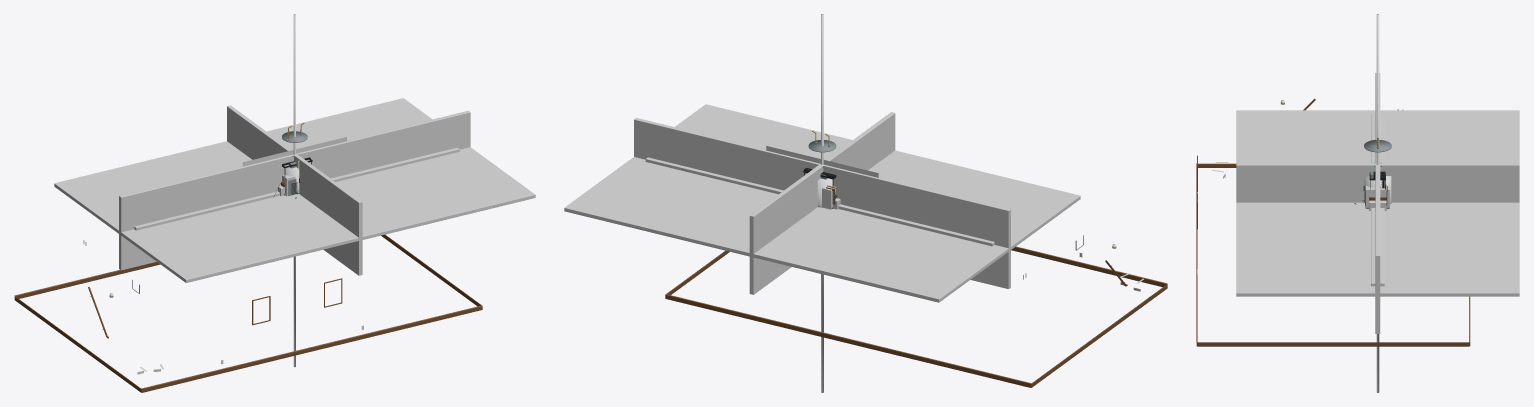
Rendered from den-craft.glb.
3 renders of one model, left to right at view 1: azimuth 30°, elevation 25°; view 2: azimuth 150°, elevation 25°; view 3: azimuth 270°, elevation 25°, orthographic. The views are drawn at different scales.
Visible parts, largest first — view 1: floor, den_12eecf06, den_2b9b7a50, room_warm walnut, den_97aaf383, room_end grain, den_e48f0107, rug; view 2: floor, den_12eecf06, den_2b9b7a50, room_warm walnut, den_97aaf383, room_end grain, den_e48f0107, rug; view 3: floor, den_2b9b7a50, room_warm walnut, den_12eecf06, den_97aaf383, den_e48f0107, room_end grain, furnaceBody.
Part boxes in pixels (x1,y1,x2,y2): floor: (54, 98, 535, 282); den_12eecf06: (119, 110, 470, 270); den_2b9b7a50: (227, 105, 362, 275); room_warm walnut: (14, 234, 482, 392); den_97aaf383: (134, 147, 459, 230); room_end grain: (14, 270, 482, 389); den_e48f0107: (293, 14, 295, 367); rug: (242, 137, 346, 166); floor: (564, 104, 1080, 302); den_12eecf06: (634, 117, 1010, 288); den_2b9b7a50: (749, 112, 895, 294); room_warm walnut: (665, 247, 1167, 387); den_97aaf383: (645, 157, 994, 246); room_end grain: (665, 246, 1167, 383); den_e48f0107: (821, 14, 823, 392); rug: (766, 146, 878, 177); floor: (1236, 110, 1519, 296); den_2b9b7a50: (1236, 163, 1519, 202); room_warm walnut: (1196, 98, 1470, 346); den_12eecf06: (1375, 73, 1380, 333); den_97aaf383: (1371, 114, 1384, 286); den_e48f0107: (1376, 14, 1379, 392); room_end grain: (1196, 163, 1470, 342); furnaceBody: (1365, 185, 1389, 208).
Bounding box in the file's own units: 12.63 × 10.3 × 7.98.
